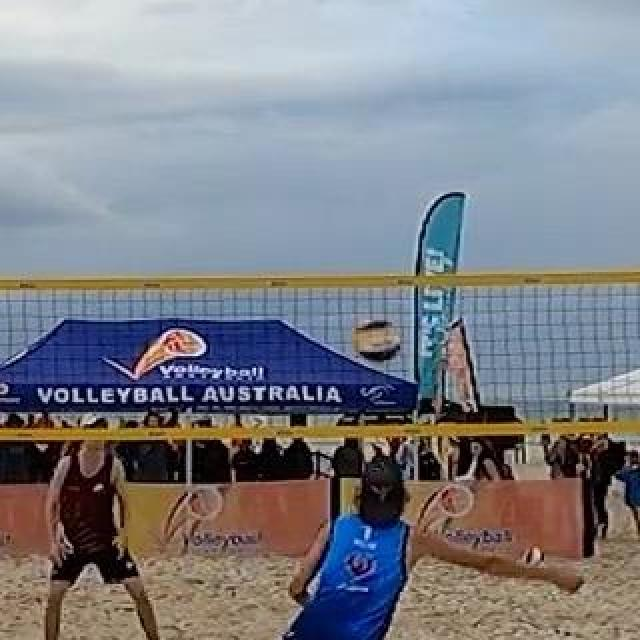volleyball: (353, 316, 401, 364), (523, 546, 543, 566)
